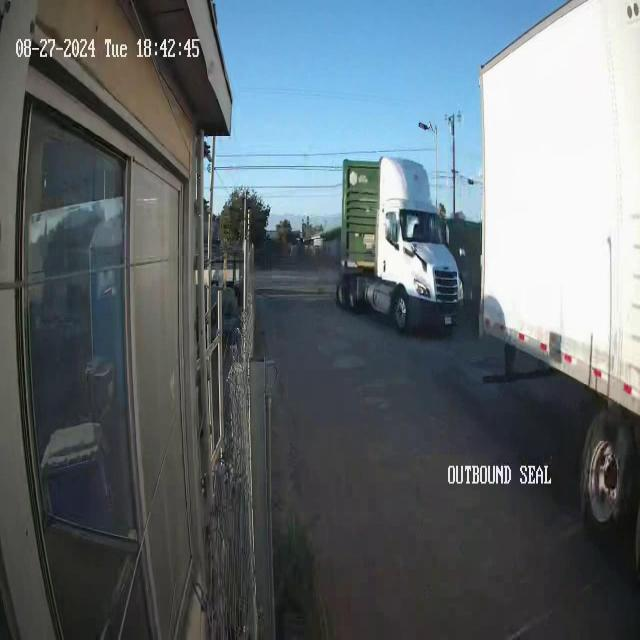CONTAINER: (478, 6, 636, 410), (335, 155, 389, 281)
